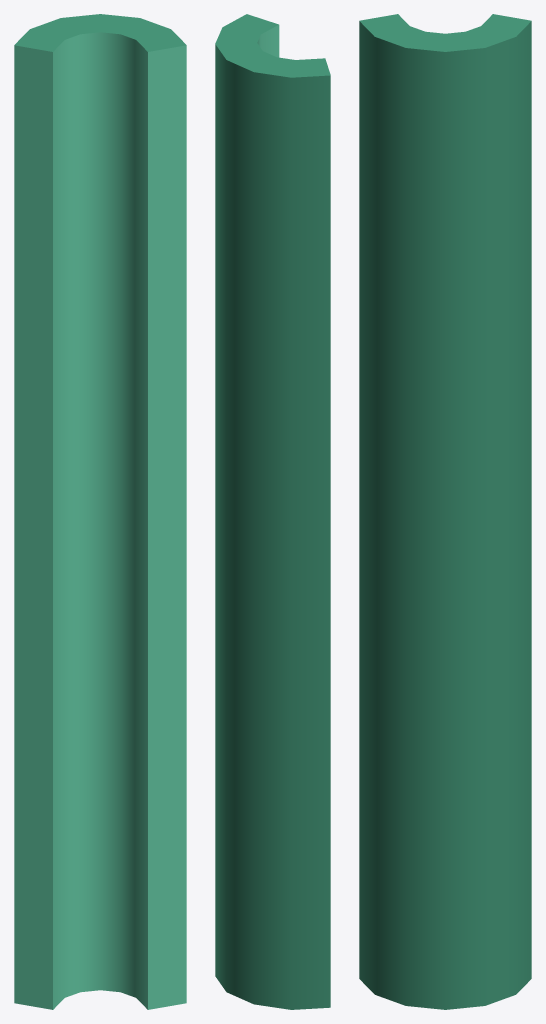
Rendered from celeryStick.GLB.
3 views of the same model, side by side, from view 1: azimuth 90°, elevation 25°; view 2: azimuth 210°, elevation 25°; view 3: azimuth 270°, elevation 25° (orthographic). The views are drawn at different scales.
Parts seen in each view (by area): view 1: celeryStick; view 2: celeryStick; view 3: celeryStick.
Part boxes in pixels (x1,y1,x2,y2): celeryStick: [14, 14, 186, 1009]; celeryStick: [215, 14, 330, 1009]; celeryStick: [359, 14, 531, 1009].
Size of the model in its own units: 0.046 by 0.54 by 0.0882.
